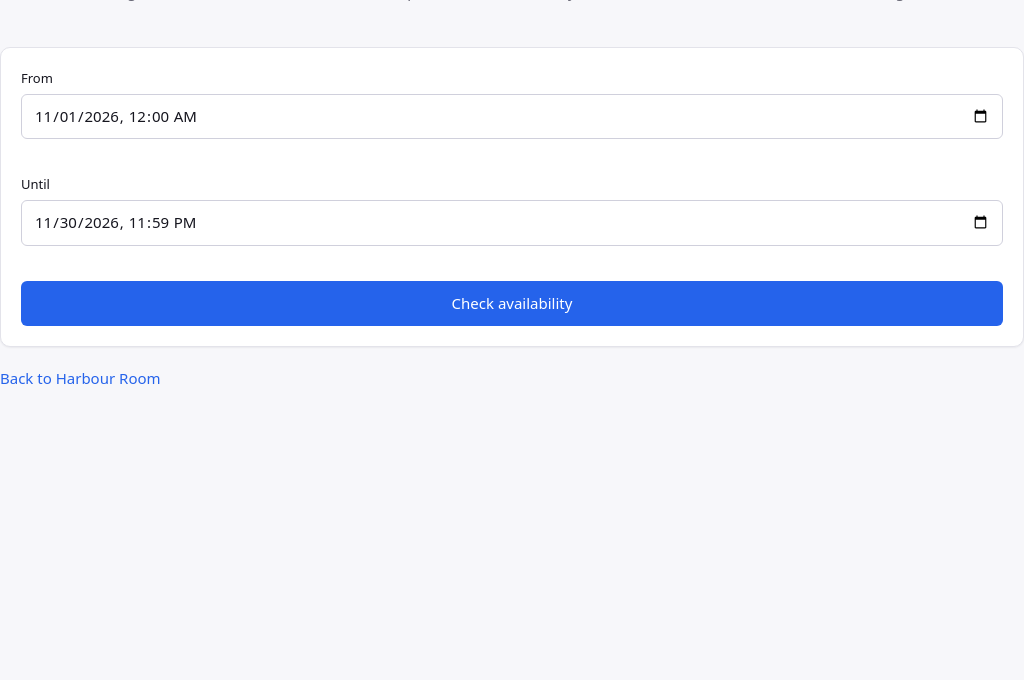
it: View Venue Availability Calendar › SCRUM-93 AC3: an unavailability item shows Unavailable and its reason
The width and height of the screenshot is (1024, 680).
What coordinates should you click on to do the following:
click the button "Check availability"
I would click on:
 (512, 303)
Its box is [21,280,1003,326].
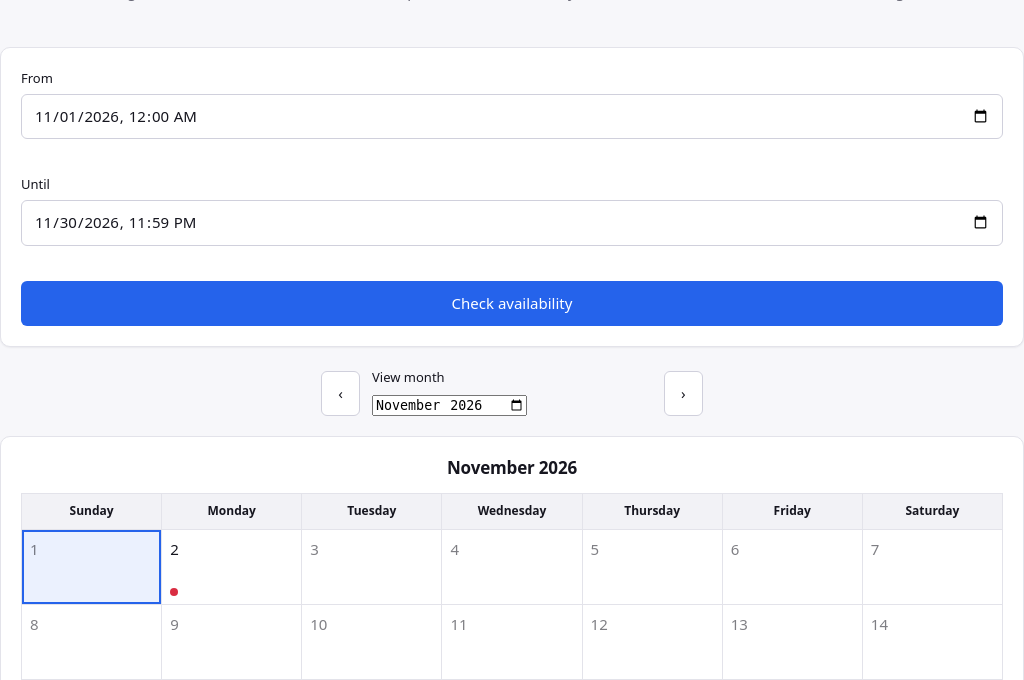
What coordinates should you click on to do the following:
click the button "2"
I would click on:
 (232, 567)
Its box is [162,530,301,604].
(page scrolled)
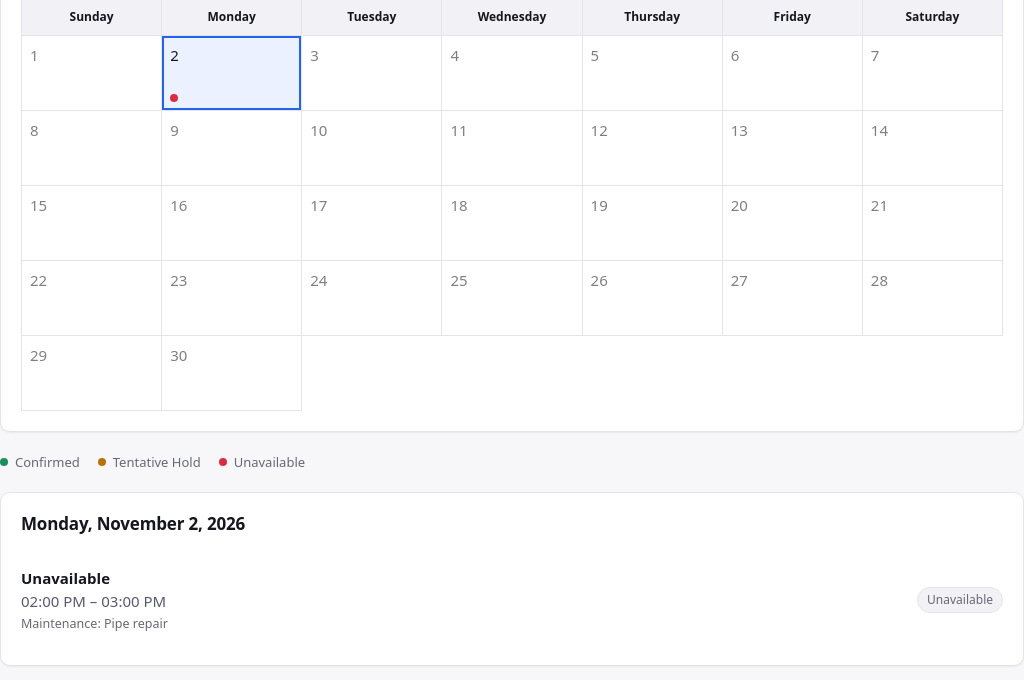
expect the element named "Availability on 2026-11-02" shows "Unavailable": met, box [21,568,110,588]
expect the element named "Availability on 2026-11-02" shows "Maintenance: Pipe repair": met, box [0,492,1023,666]
